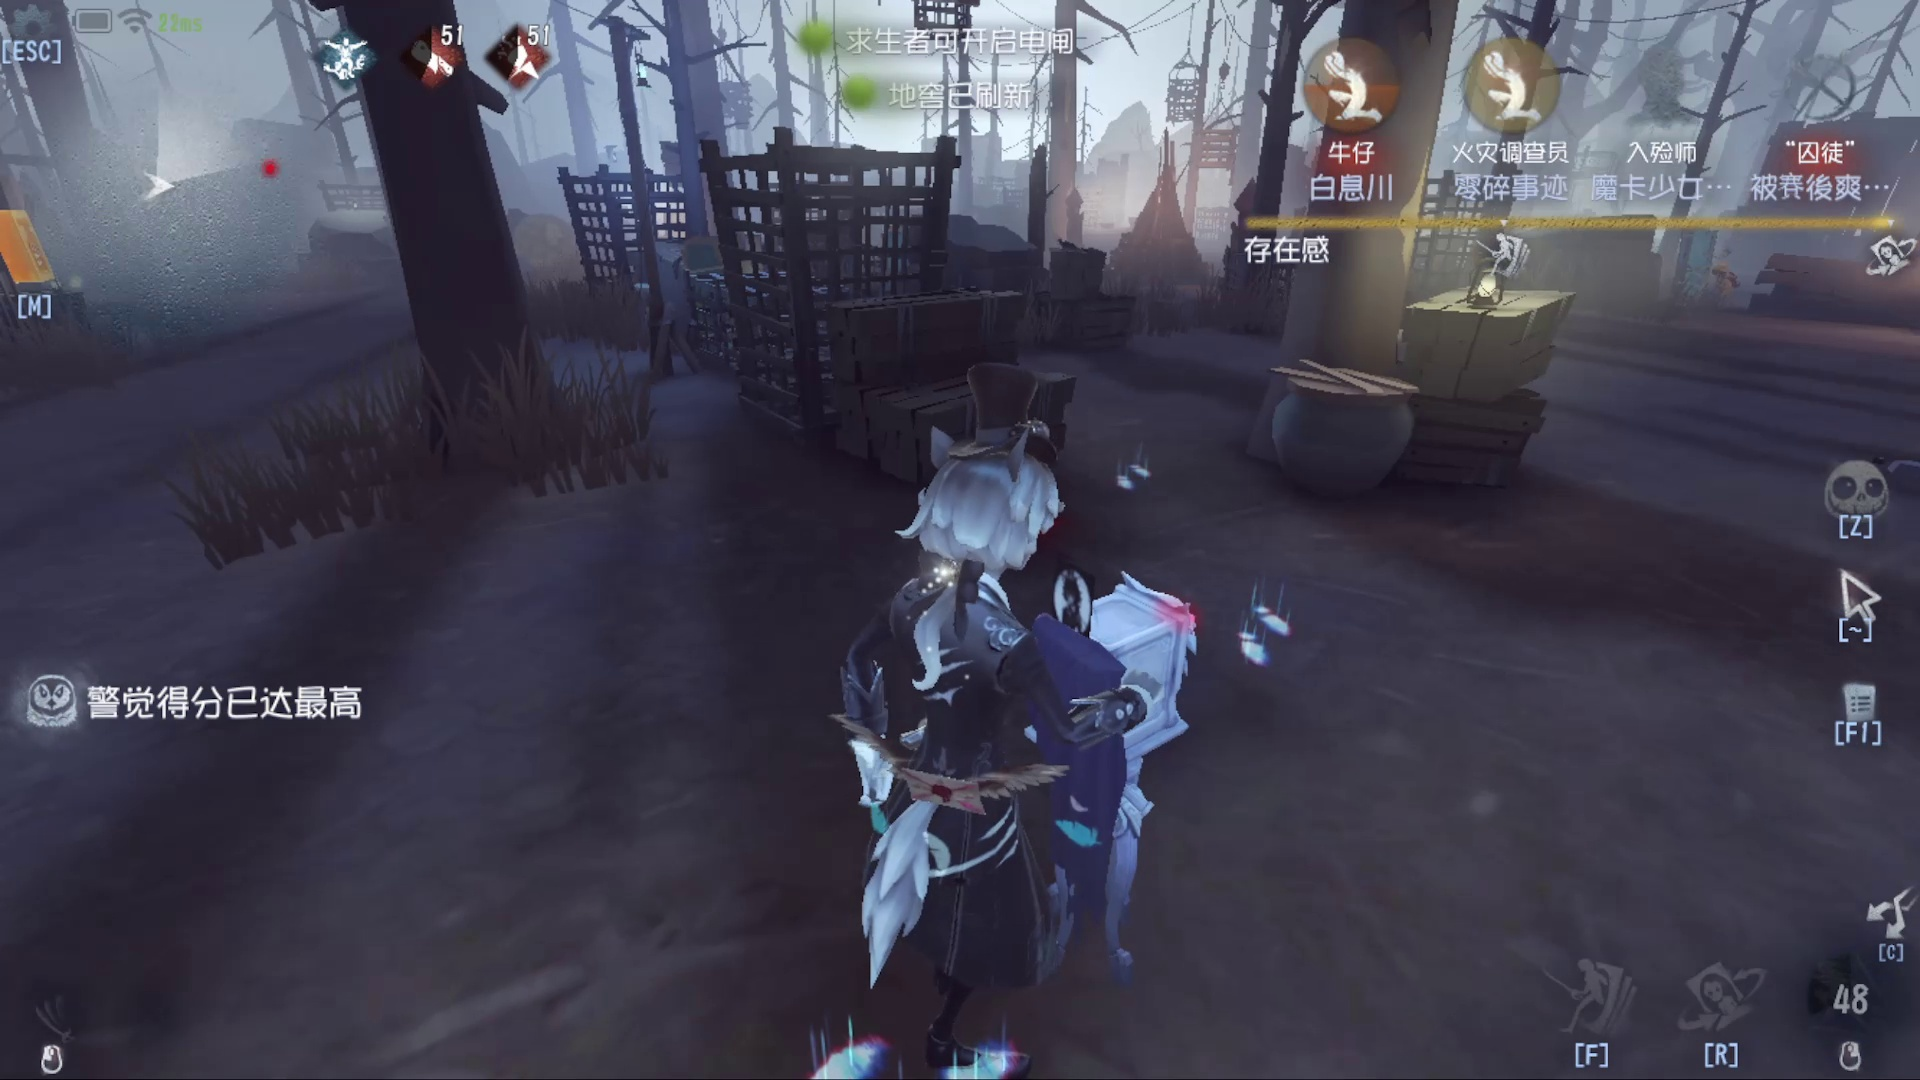木板: (655, 196, 767, 320), (1676, 214, 1716, 313)
求生者: (1722, 252, 1760, 328)
